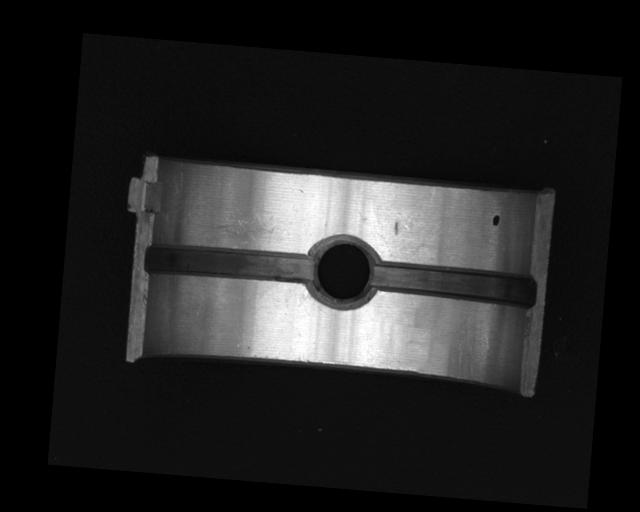blot: (491, 214, 500, 227)
bruise: (393, 220, 400, 236)
gap: (143, 239, 316, 287), (372, 260, 538, 306)
hole: (304, 231, 382, 313)
scratch: (179, 204, 286, 253)
